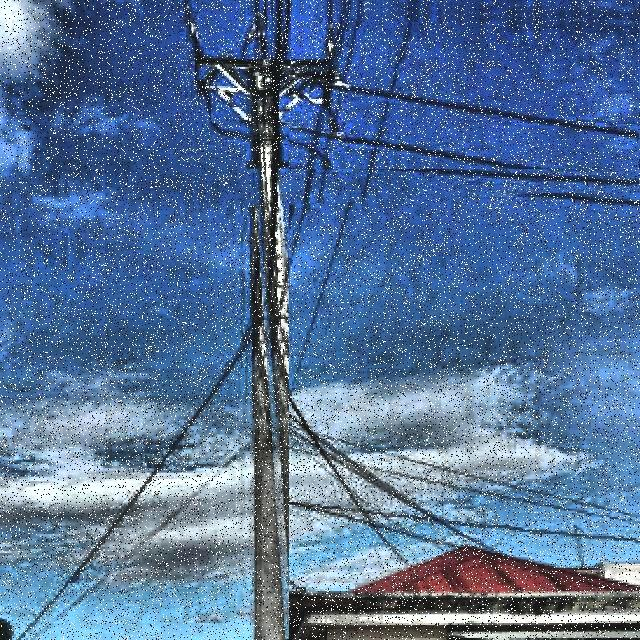crossarm: (211, 65, 249, 123), (196, 59, 330, 74), (279, 80, 310, 123)
pole: (247, 65, 289, 639)
wire: (180, 0, 640, 192), (238, 1, 564, 169), (325, 0, 620, 119)
